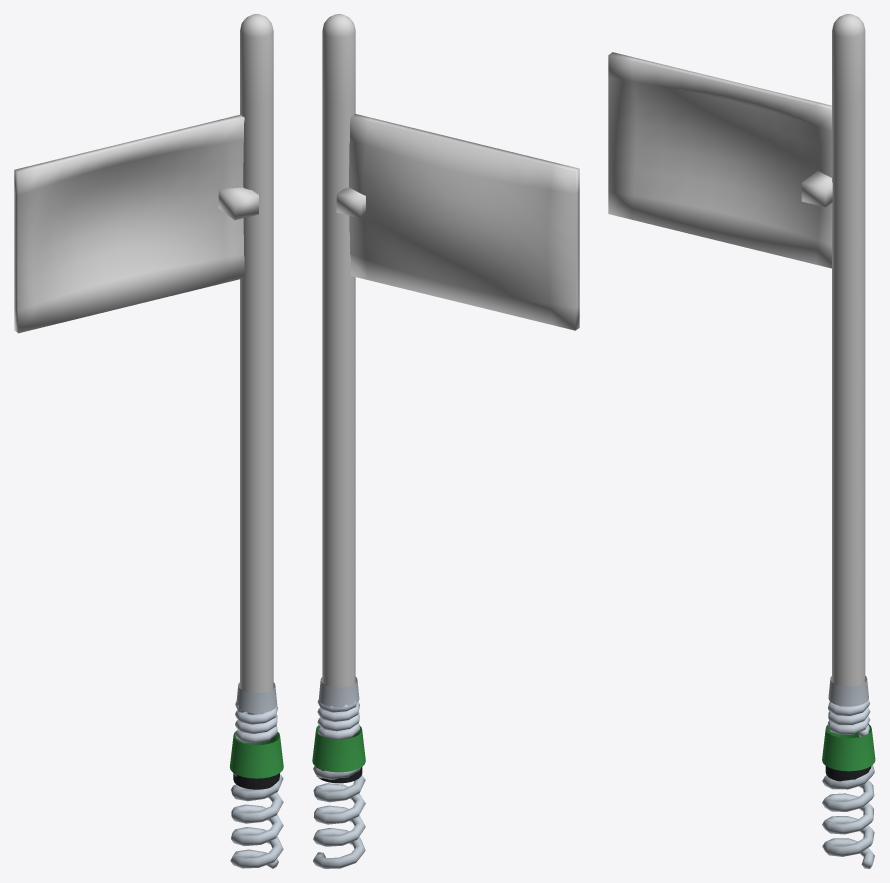
Rendered from gate.glb.
3 renders of one model, left to right at view 1: azimuth 30°, elevation 25°; view 2: azimuth 150°, elevation 25°; view 3: azimuth 330°, elevation 25°, orthographic.
Parts seen in each view (by area): view 1: GateTint, GateHardware; view 2: GateTint, GateHardware; view 3: GateTint, GateHardware.
Boxes of the visible parts, x1,y1,x2,y2 form: GateTint: (14,14,273,692); GateHardware: (230,682,283,868); GateTint: (322,14,579,687); GateHardware: (312,677,365,868); GateTint: (608,14,865,686); GateHardware: (822,676,875,868).
Size of the model in its own units: 0.654 by 2.03 by 0.1352.
2 materials, 1 textured.
